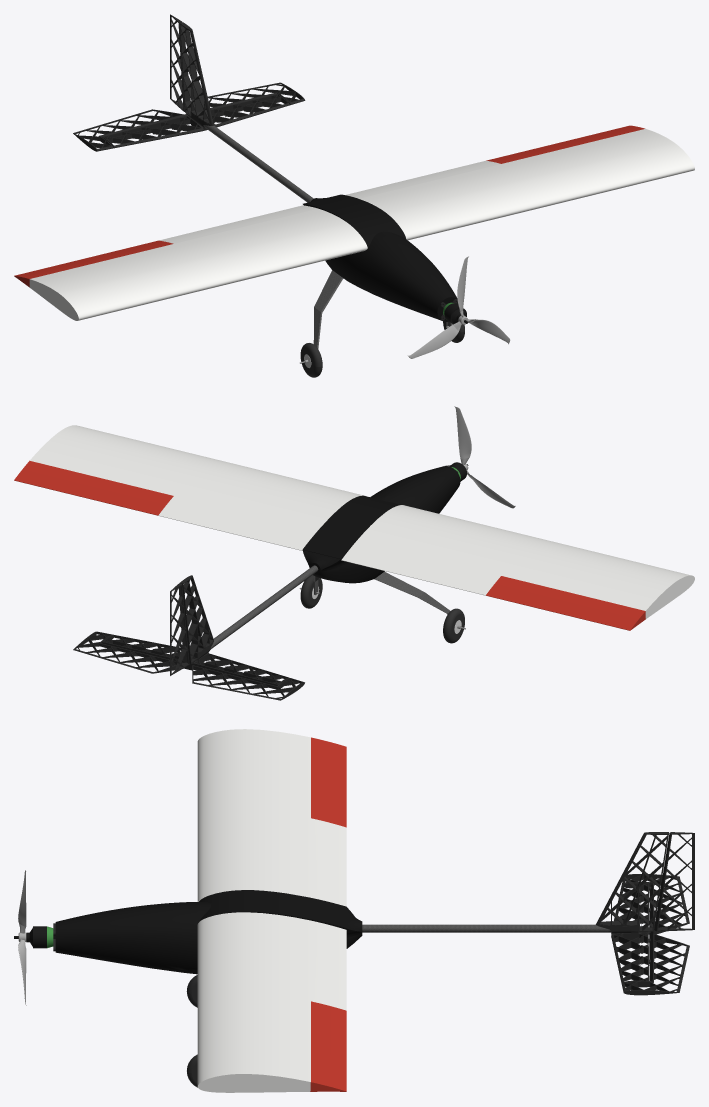
Rendered from icarus_gallinazo.glb.
3 views of the same model, one above another, from view 1: azimuth 30°, elevation 25°; view 2: azimuth 150°, elevation 25°; view 3: azimuth 270°, elevation 25° (orthographic). The views are drawn at different scales.
Parts seen in each view (by area): view 1: Body1.003, Body1.004, Main_Fuselage__1_, Body1, Body23, Body31, Body78, LHST, Body3.001, Body3, Body2, Body2.001 (+5 smaller); view 2: Body1.003, Body1.004, Main_Fuselage__1_, Body3.001, Body2, Body3, Body2.001, Body1, Body23, LHET.001, LHST, LHET (+7 smaller); view 3: Body1.004, Body1.003, Main_Fuselage__1_, Body3, Body2.001, Body3.001, Body2, Body78, Body1.002, Body43, LHET, LHST.001 (+4 smaller).
Boxes of the visible parts, x1=… form: Body1.003: x1=29, y1=208, x2=367, y2=320; Body1.004: x1=359, y1=128, x2=694, y2=240; Main_Fuselage__1_: x1=303, y1=194, x2=457, y2=321; Body1: x1=300, y1=270, x2=464, y2=377; Body23: x1=179, y1=23, x2=213, y2=125; Body31: x1=407, y1=256, x2=510, y2=358; Body78: x1=180, y1=22, x2=213, y2=125; LHST: x1=102, y1=115, x2=206, y2=147; Body3.001: x1=14, y1=240, x2=173, y2=287; Body3: x1=486, y1=125, x2=644, y2=163; Body2: x1=159, y1=205, x2=317, y2=243; Body2.001: x1=345, y1=160, x2=500, y2=198; Body1.003: x1=357, y1=505, x2=694, y2=618; Body1.004: x1=30, y1=425, x2=364, y2=530; Main_Fuselage__1_: x1=302, y1=466, x2=460, y2=583; Body3.001: x1=486, y1=576, x2=645, y2=630; Body2: x1=341, y1=540, x2=500, y2=595; Body3: x1=14, y1=460, x2=173, y2=515; Body2.001: x1=158, y1=496, x2=317, y2=550; Body1: x1=299, y1=571, x2=465, y2=643; Body23: x1=180, y1=576, x2=213, y2=663; LHET.001: x1=188, y1=664, x2=304, y2=700; LHST: x1=190, y1=653, x2=289, y2=685; LHET: x1=73, y1=631, x2=188, y2=673; Body1.004: x1=197, y1=912, x2=310, y2=1092; Body1.003: x1=197, y1=729, x2=310, y2=901; Main_Fuselage__1_: x1=55, y1=890, x2=362, y2=974; Body3: x1=310, y1=1001, x2=346, y2=1091; Body2.001: x1=311, y1=920, x2=346, y2=1010; Body3.001: x1=311, y1=737, x2=346, y2=827; Body2: x1=311, y1=818, x2=346, y2=906; Body78: x1=596, y1=832, x2=668, y2=931; Body1.002: x1=362, y1=924, x2=611, y2=932; Body43: x1=654, y1=832, x2=694, y2=931; LHET: x1=621, y1=932, x2=689, y2=992; LHST.001: x1=611, y1=932, x2=649, y2=983.
Bounding box in the file's own units: 1600 × 469 × 1336.
Materials: 11 (1 with a texture image).
